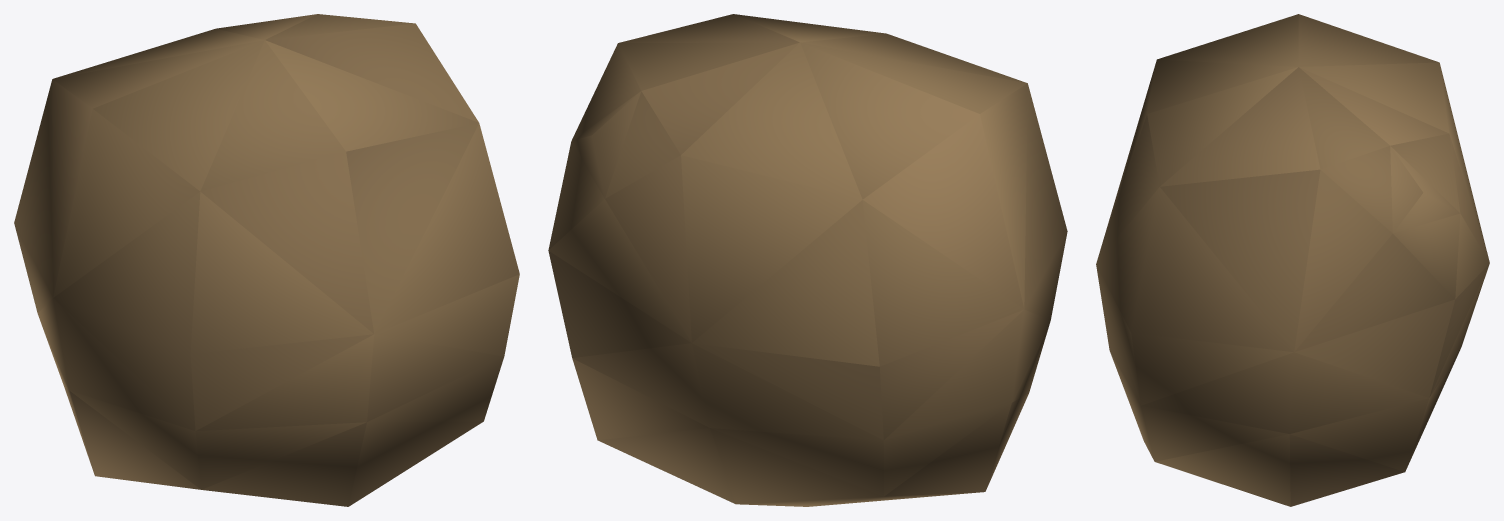
File: SmallSandChunk.004.glb
3 views of the same model, side by side, from view 1: azimuth 30°, elevation 25°; view 2: azimuth 150°, elevation 25°; view 3: azimuth 270°, elevation 25° (orthographic). The views are drawn at different scales.
Visible parts, largest first — view 1: SmallSandChunk.004; view 2: SmallSandChunk.004; view 3: SmallSandChunk.004.
Part boxes in pixels (x1,y1,x2,y2): SmallSandChunk.004: [14, 14, 519, 506]; SmallSandChunk.004: [548, 14, 1067, 506]; SmallSandChunk.004: [1096, 14, 1489, 506].
Size of the model in its own units: 279 by 282 by 242.
